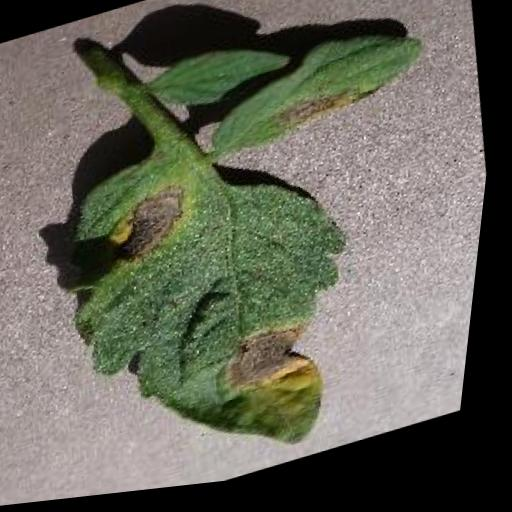Early Blight: (15, 15, 499, 507)
